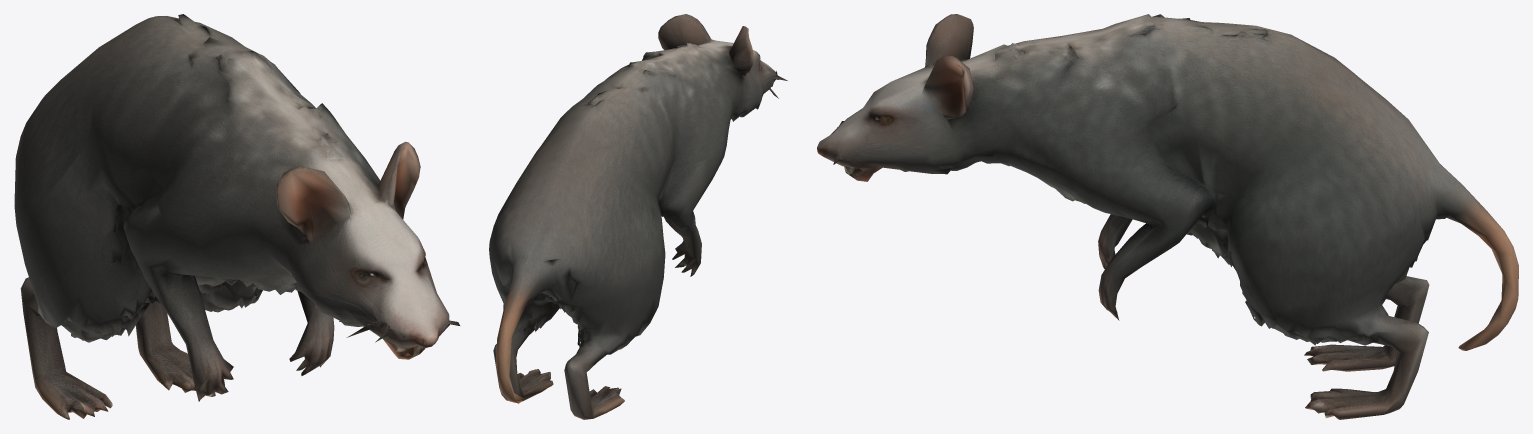
The model's file is rat.glb.
3 views of the same model, side by side, from view 1: azimuth 30°, elevation 25°; view 2: azimuth 150°, elevation 25°; view 3: azimuth 270°, elevation 25° (orthographic). The views are drawn at different scales.
Size of the model in its own units: 0.6619 by 1.16 by 2.
Materials: 1 (1 with a texture image).
